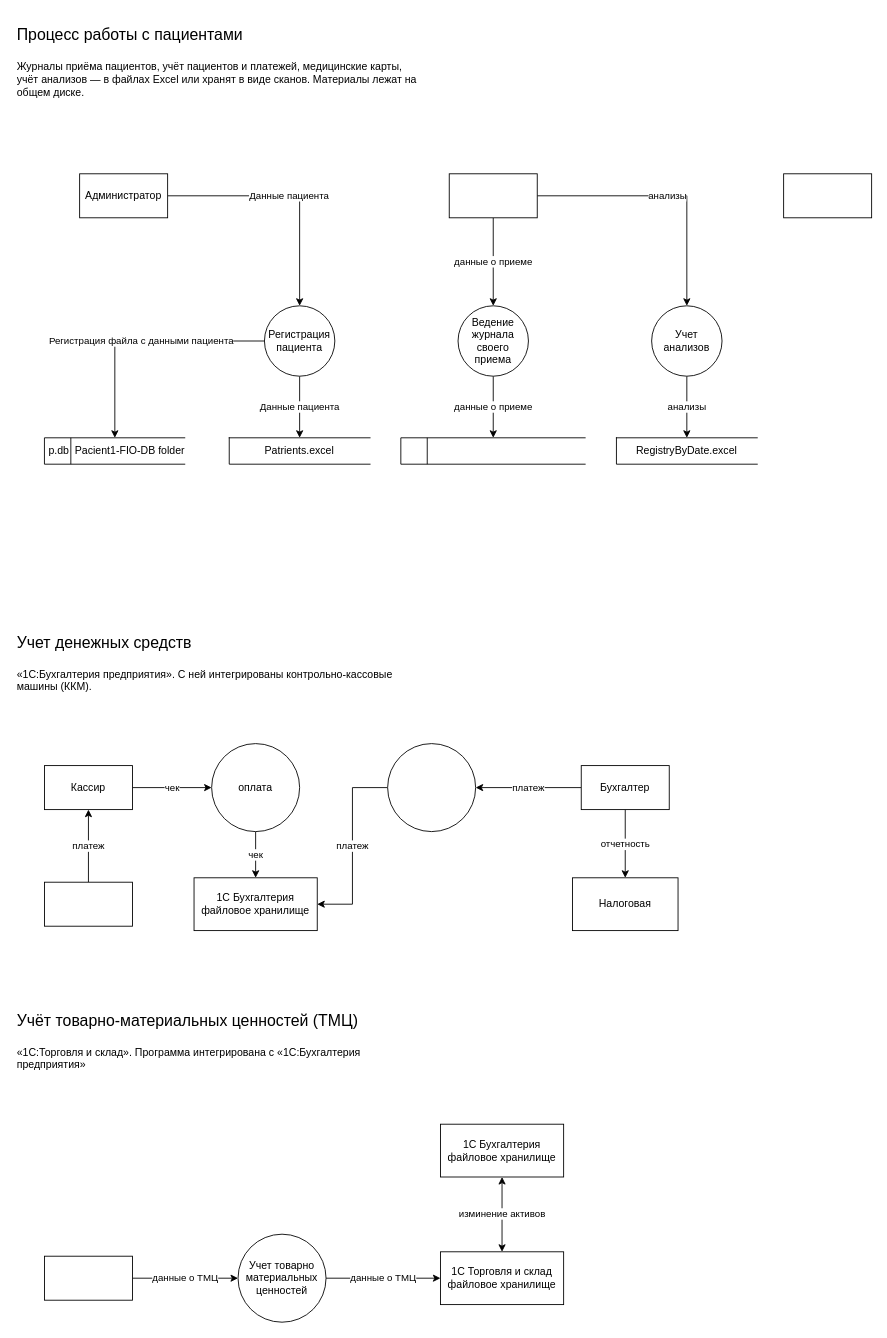
Image size: 887x1338. Some labels were removed from this diagram. The box of each missing label's shape, as (x1, y1, x2, y2) in pixels:
jdfio journal-doctor-fio named file: (400, 437, 586, 464)
Врач: (448, 173, 537, 218)
Кладовщик: (44, 1255, 132, 1300)
Лабаратория: (783, 173, 872, 218)
обработка платежей: (387, 743, 476, 832)
Пациент: (44, 881, 132, 926)
